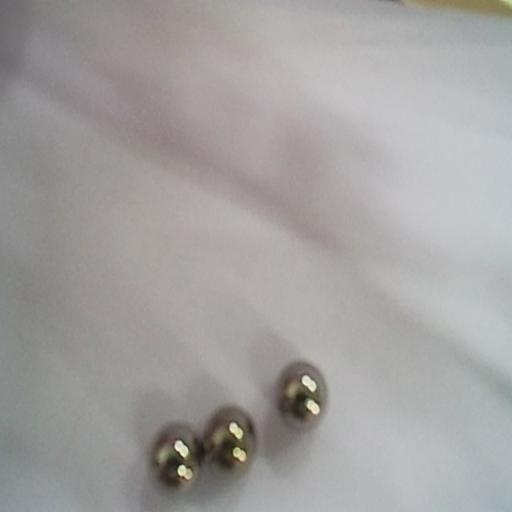steel-ball: (264, 360, 339, 442), (199, 402, 265, 484), (146, 420, 202, 502)
